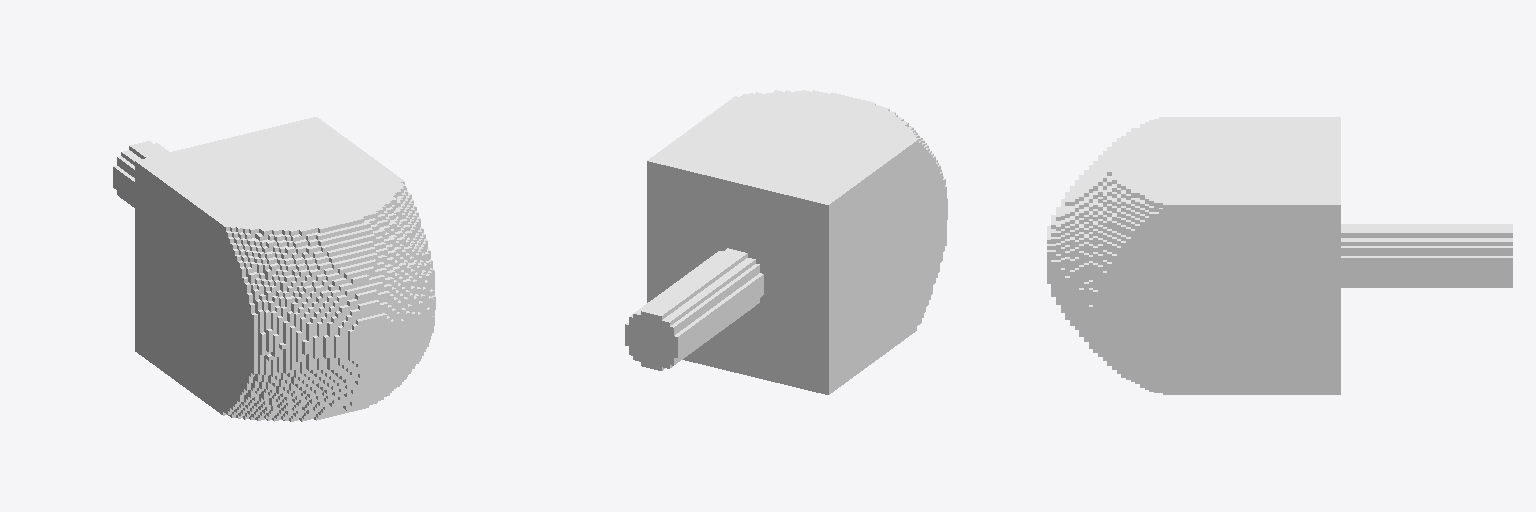
The model's file is dreidel.obj.
3 renders of one model, left to right at view 1: azimuth 30°, elevation 25°; view 2: azimuth 150°, elevation 25°; view 3: azimuth 270°, elevation 25°, orthographic.
Parts seen in each view (by area): view 1: object 1; view 2: object 1; view 3: object 1.
Boxes of the visible parts, x1=… form: object 1: x1=113, y1=117, x2=435, y2=421; object 1: x1=625, y1=90, x2=947, y2=394; object 1: x1=1047, y1=117, x2=1512, y2=394.
Bounding box in the file's own units: 4.5 × 4.5 × 10.